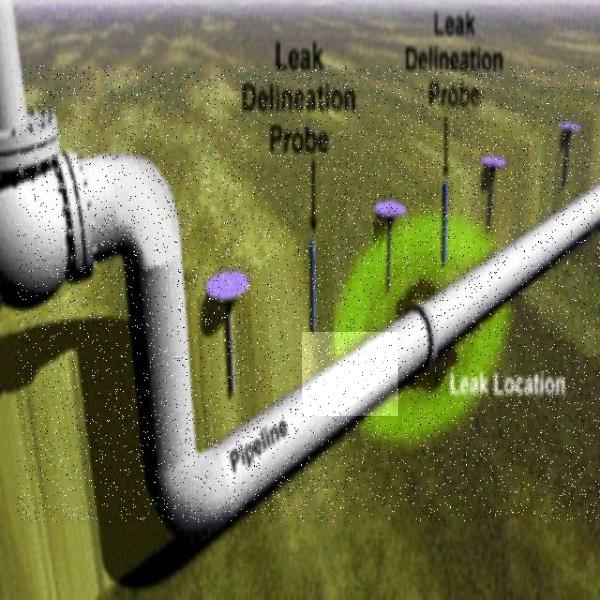water: (302, 332, 398, 416)
